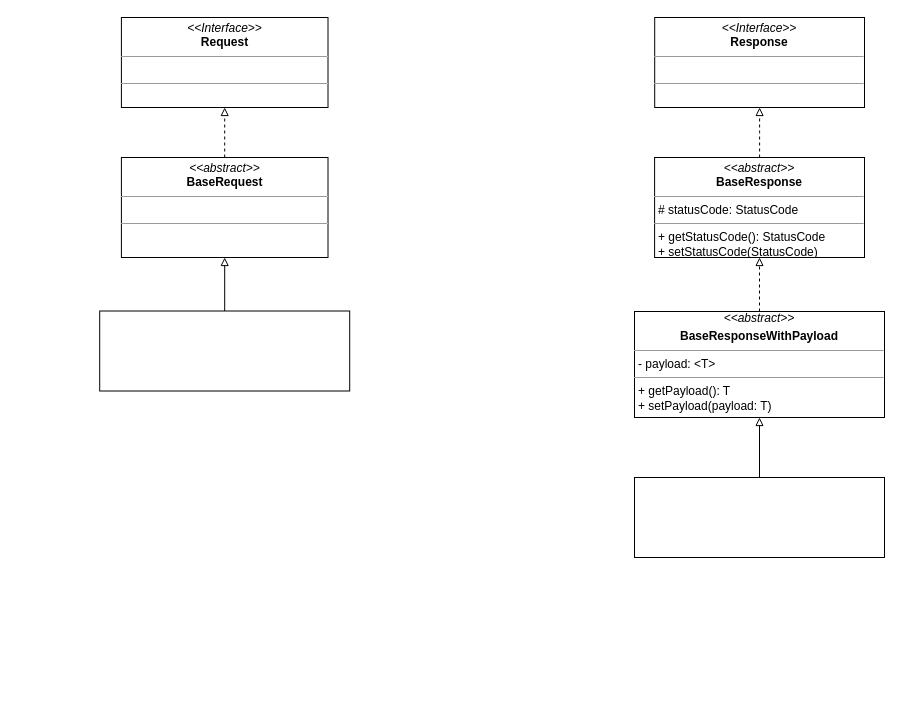
The diagram is 902 pixels wide and 709 high, and some of its shapes have lost their labels. The shapes that lost their labels are listed below. From the top down, each one's centre as x and y in pixels, then its label:
pixel 224 350: PutAssetAdministrationShellRequest - aas: AssetAdministrationShell
pixel 759 517: PutAssetAdministrationShellResponse - payload: AssetAdministrationShell
